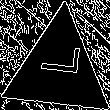L_W: (34, 51, 83, 87)
